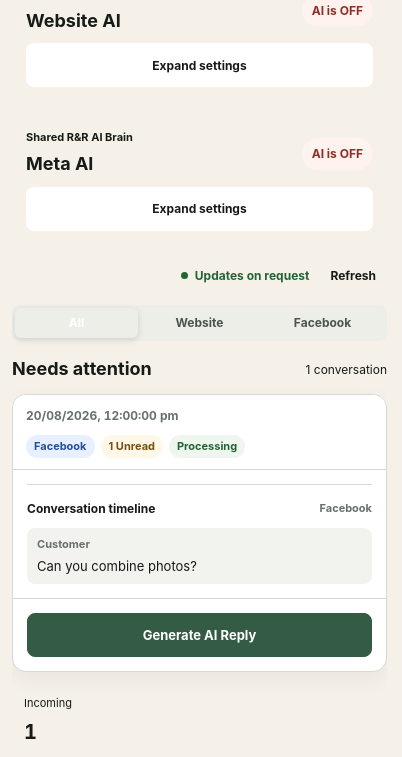
ReplyAssistantLiveDashboard › keeps AI control independent from channel filters and collapsible on mobile
What coordinates should you click on to do the following:
click the button with aria-label "Expand Meta AI control settings"
I would click on:
 (200, 209)
Its box is [26,187,373,231].
(page scrolled)
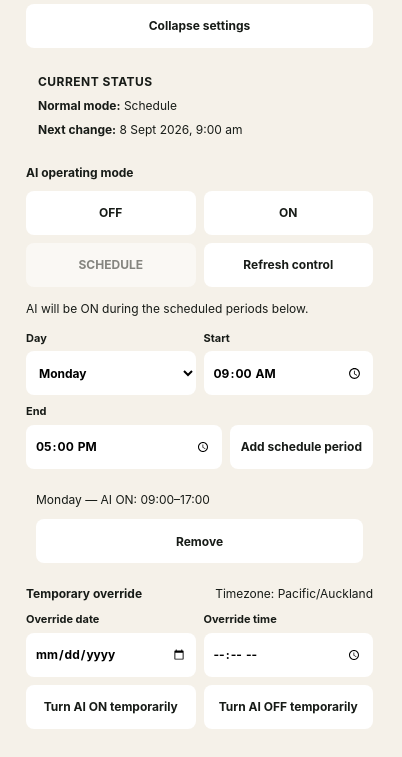
Expected: the button with aria-label "Collapse Meta AI control settings" is expanded, [26,4,373,48]
